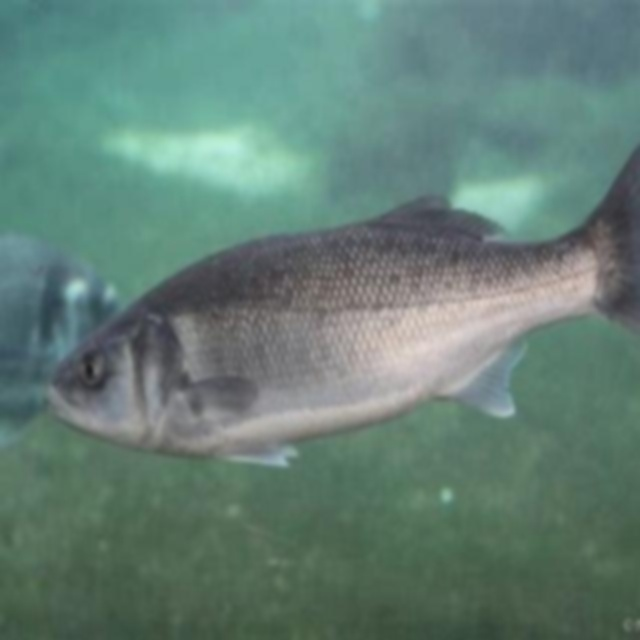Healthy Fish: (3, 151, 640, 470)
